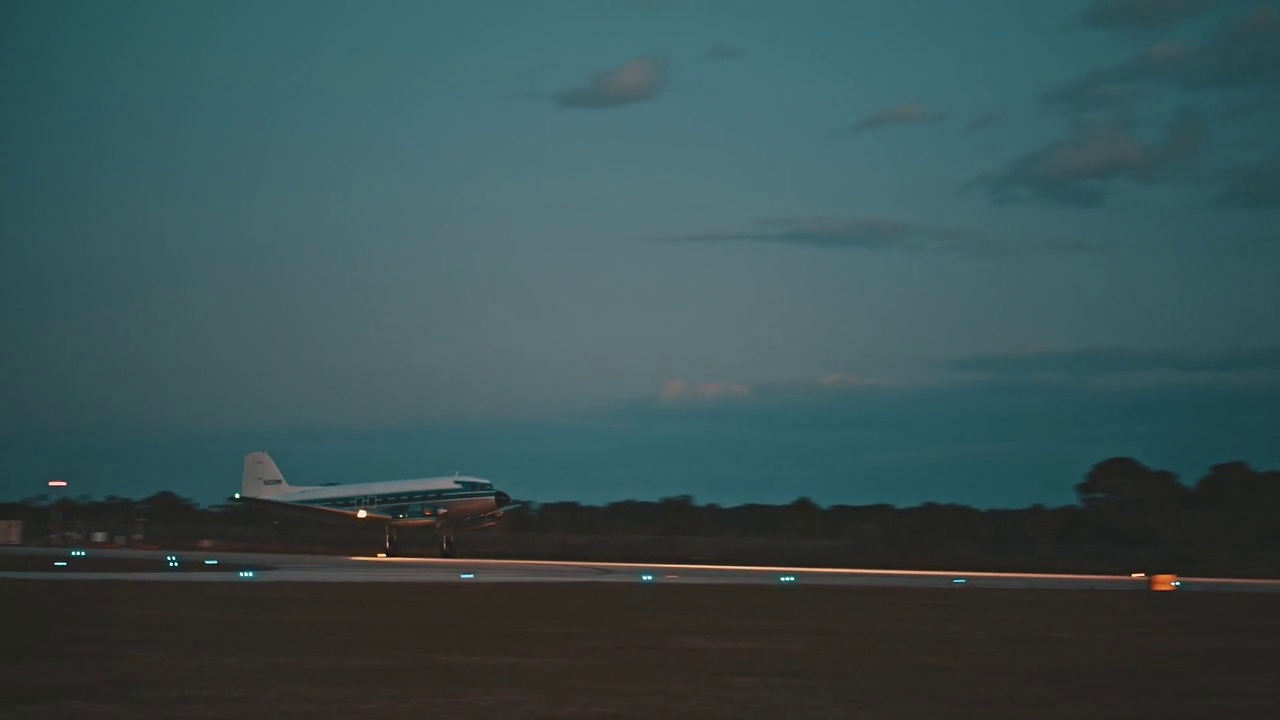plane: (227, 450, 520, 557)
